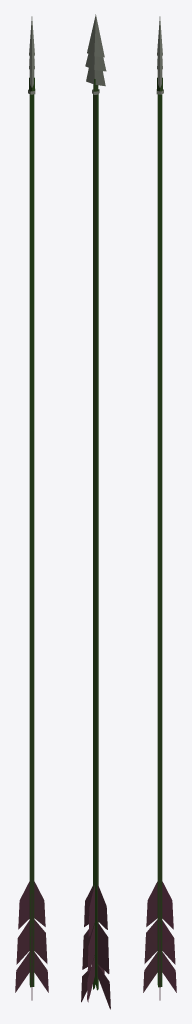
The model's file is Arrow_Forest.fbx.
3 views of the same model, side by side, from view 1: azimuth 90°, elevation 25°; view 2: azimuth 150°, elevation 25°; view 3: azimuth 270°, elevation 25° (orthographic).
Parts seen in each view (by area): view 1: Arrow_Forest; view 2: Arrow_Forest; view 3: Arrow_Forest.
Part boxes in pixels (<box>): Arrow_Forest: <box>15,16,48,1000</box>; Arrow_Forest: <box>81,14,110,1009</box>; Arrow_Forest: <box>143,16,176,1000</box>.
Bounding box in the file's own units: 11.64 × 377 × 11.64.
